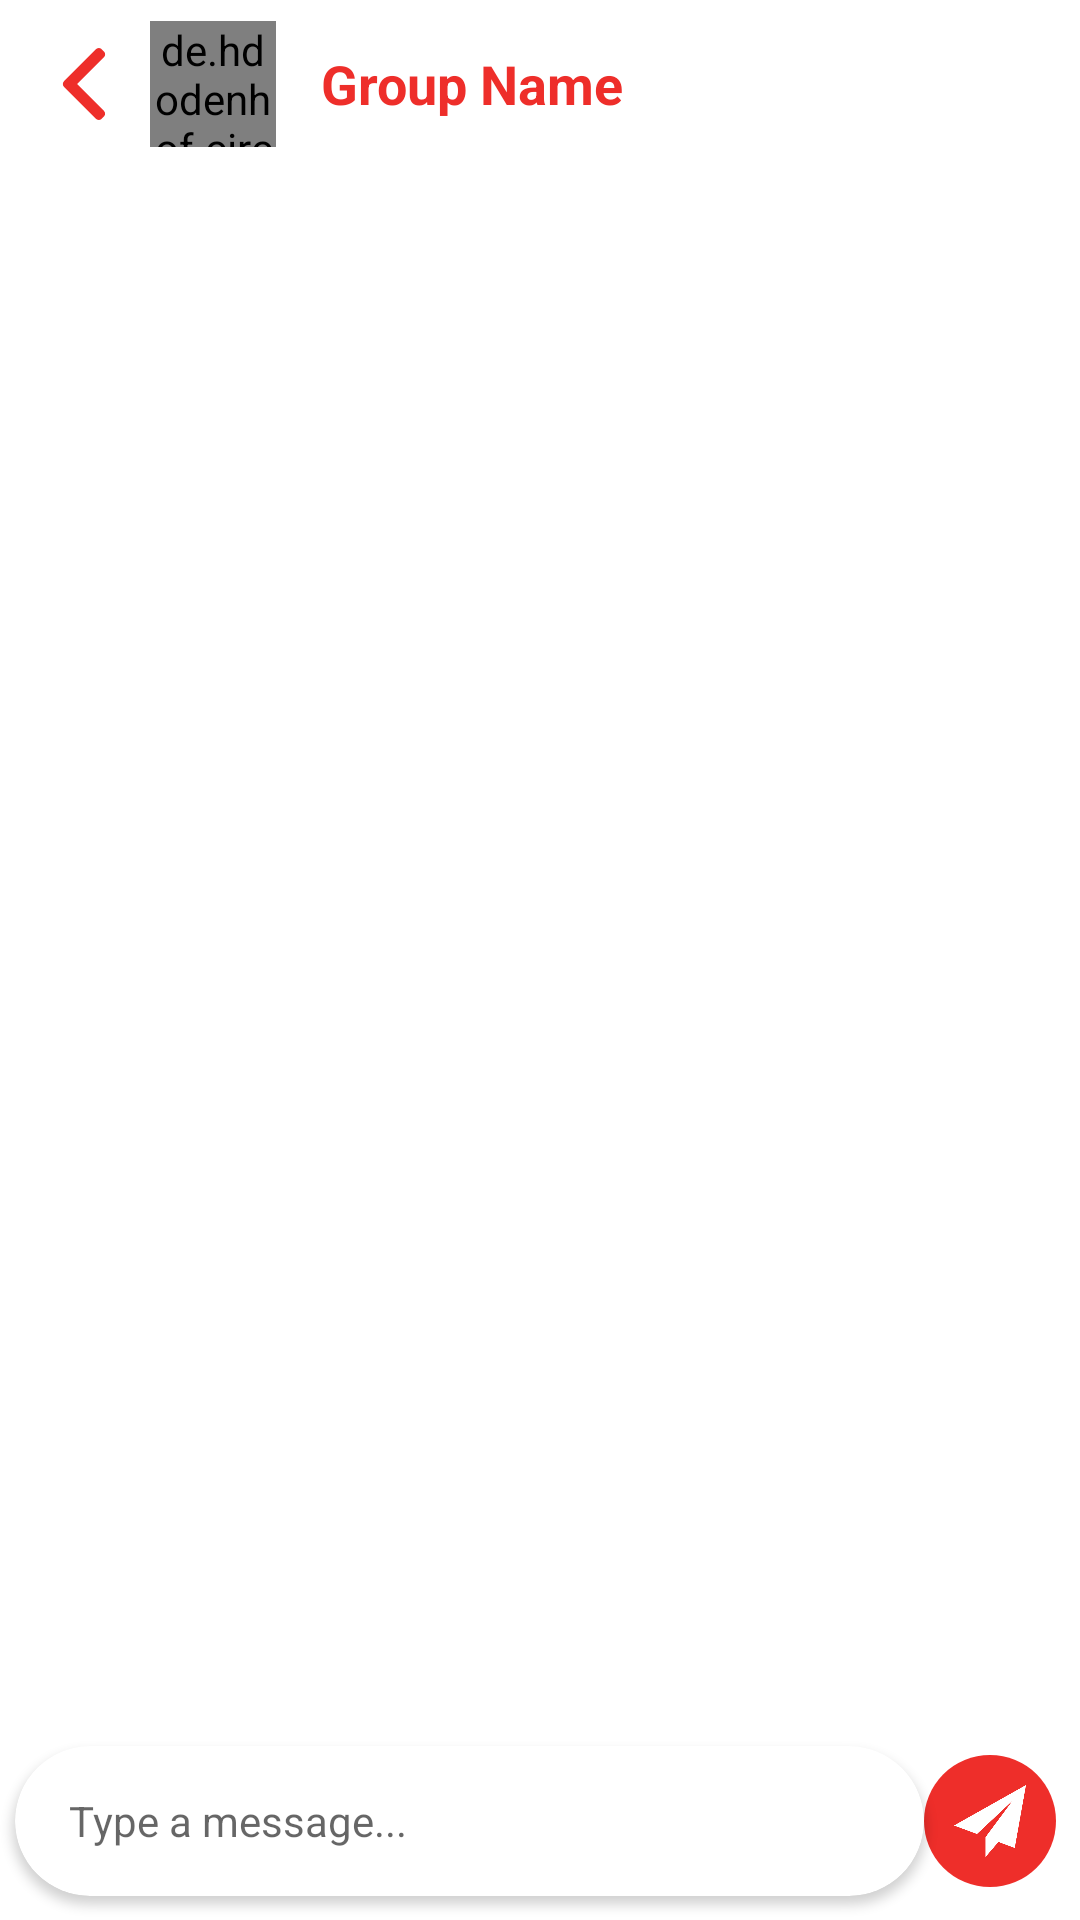

Point at icon controls on the screen. Image size 1080x1920, points as point (x, y).
left arrow: point (84, 84)
send: point (990, 1821)
